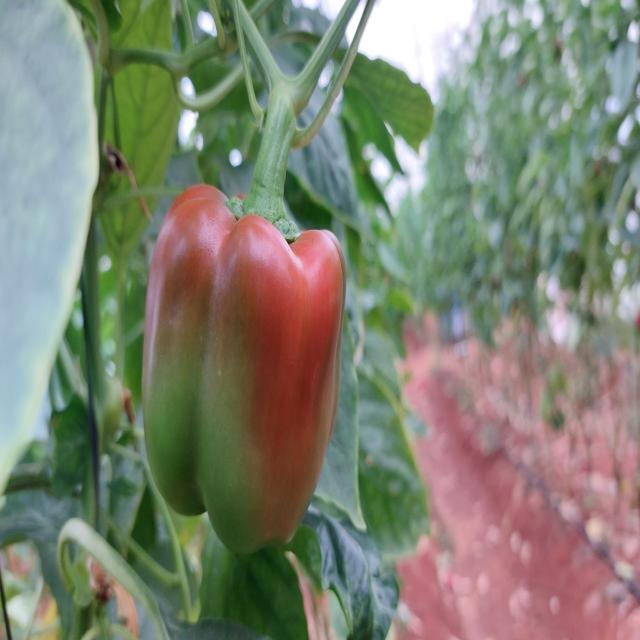BrownishRed--Can-be-Harvested: (148, 170, 339, 536)
